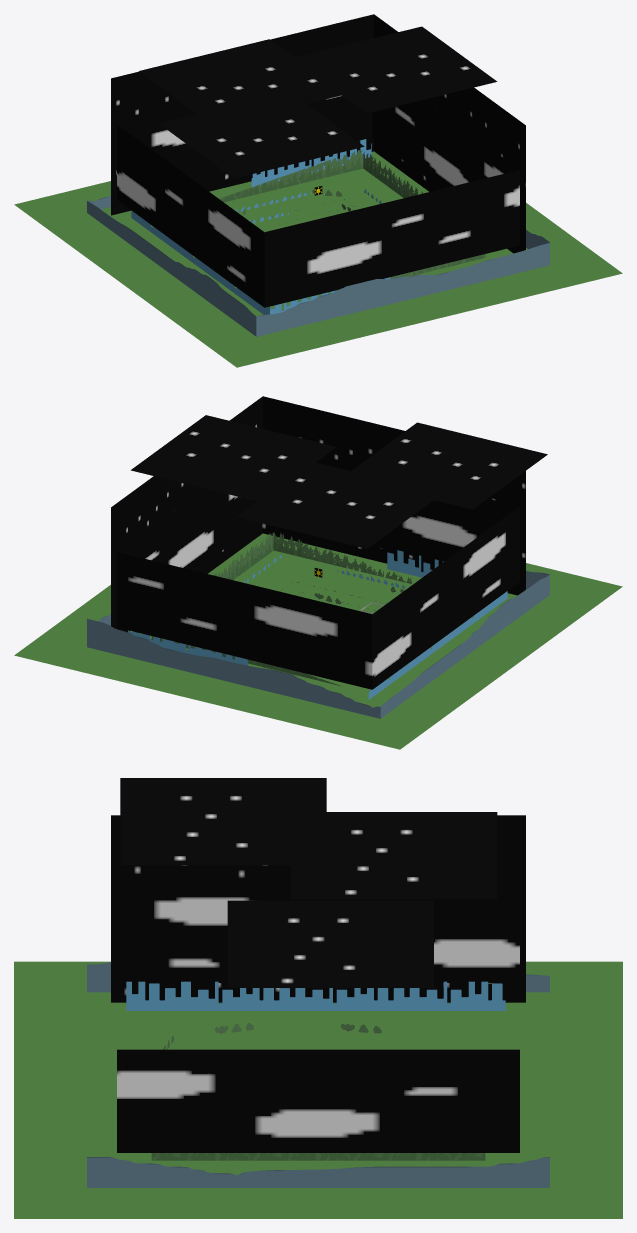
File: world.fbx
The picture shows the model from 3 angles, top to bottom: view 1: azimuth 30°, elevation 25°; view 2: azimuth 150°, elevation 25°; view 3: azimuth 270°, elevation 25°; orthographic projection. The views are drawn at different scales.
Parts seen in each view (by area): view 1: clouds, stars, ground, mountains, forest, city; view 2: clouds, stars, ground, mountains, forest, city; view 3: ground, clouds, stars, mountains, city, forest.
Part boxes in pixels (bbox=[...]): clouds: bbox=[117, 95, 519, 307]; stars: bbox=[111, 14, 525, 253]; ground: bbox=[14, 151, 622, 367]; mountains: bbox=[87, 196, 549, 336]; forest: bbox=[219, 150, 485, 293]; city: bbox=[131, 139, 390, 314]; clouds: bbox=[117, 458, 519, 689]; stars: bbox=[111, 396, 547, 632]; ground: bbox=[14, 533, 622, 749]; mountains: bbox=[87, 570, 549, 718]; forest: bbox=[151, 531, 411, 686]; city: bbox=[128, 550, 507, 699]; ground: bbox=[14, 961, 622, 1218]; clouds: bbox=[117, 879, 519, 1152]; stars: bbox=[111, 778, 525, 1002]; mountains: bbox=[87, 962, 549, 1187]; city: bbox=[126, 981, 505, 1010]; forest: bbox=[151, 1153, 485, 1160].
Size of the model in its own units: 140000 by 53847 by 140000.
